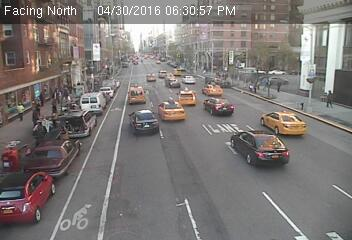neg: (137, 83, 168, 124), (62, 189, 92, 229), (22, 32, 50, 70), (270, 135, 296, 170), (159, 154, 184, 187), (219, 113, 243, 145), (128, 34, 148, 61), (212, 39, 232, 66), (244, 189, 259, 209)
pos: (34, 120, 51, 142), (11, 100, 27, 122), (325, 89, 341, 110), (50, 99, 61, 115), (275, 79, 285, 93)
